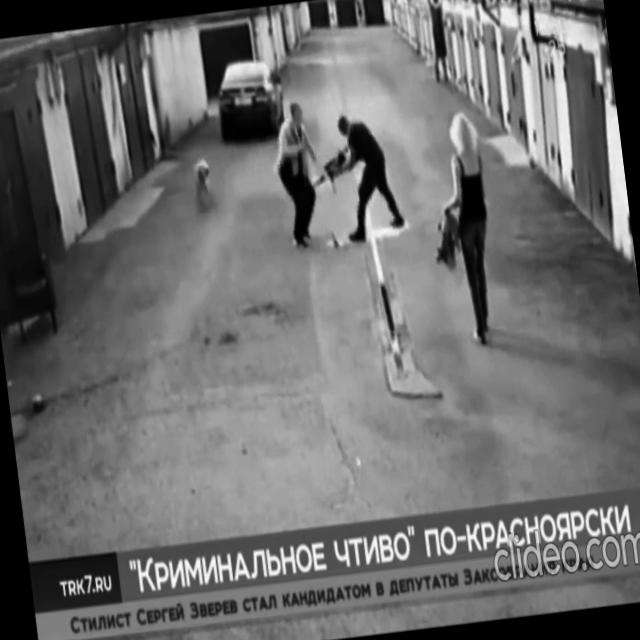gun: (306, 140, 358, 191)
person: (428, 110, 507, 350), (266, 97, 342, 251)
person with a gun: (302, 107, 407, 250)
